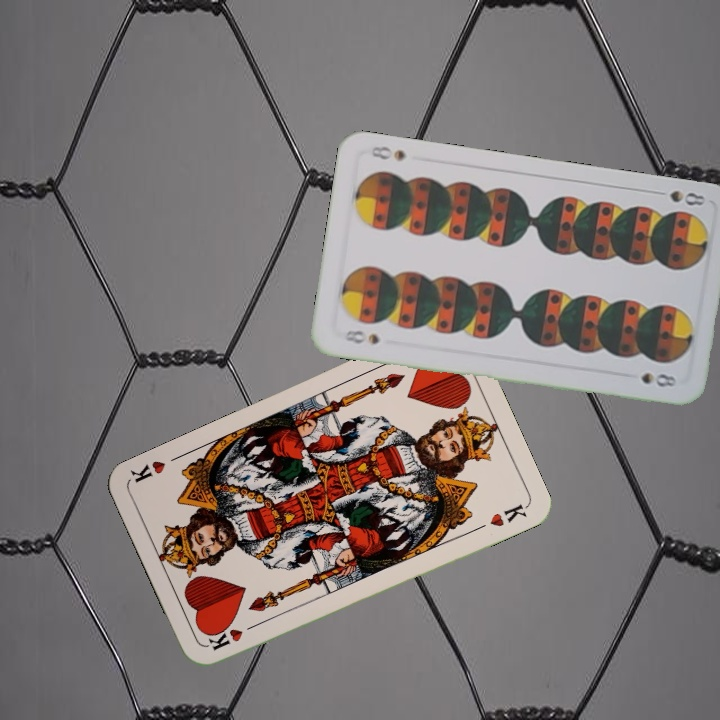HK: (203, 618, 261, 653)
S8: (649, 186, 707, 208), (339, 326, 382, 348)
